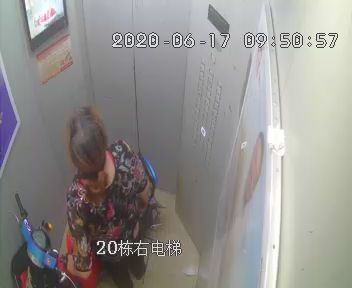Electric-bicycle: (9, 156, 155, 285)
